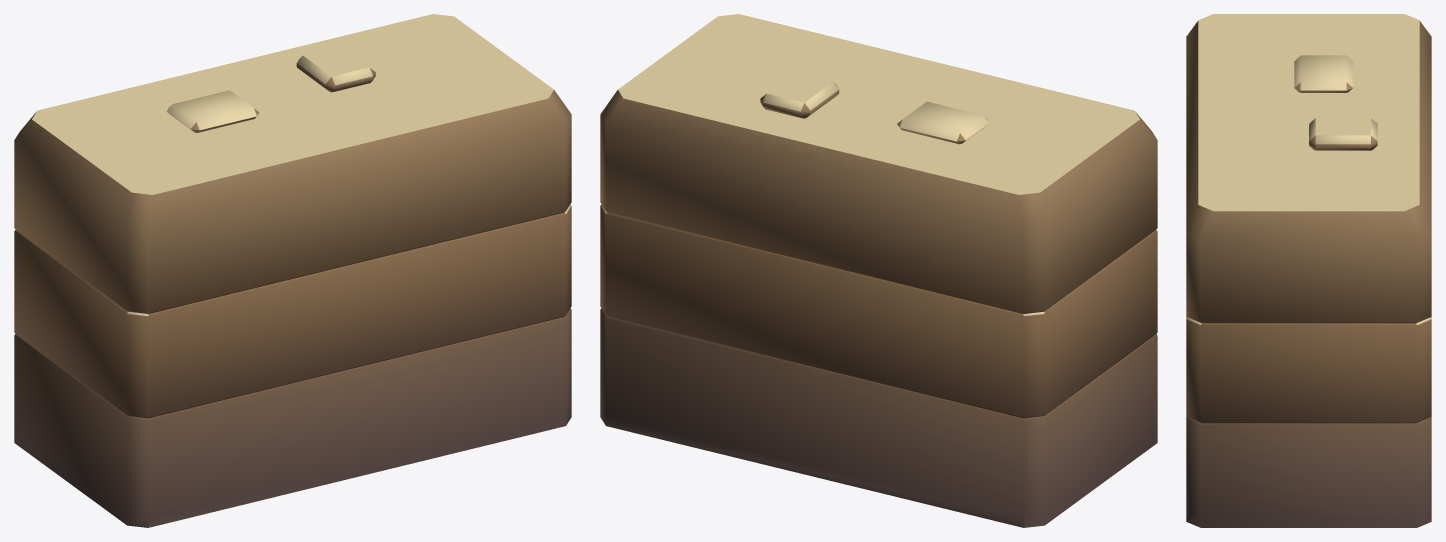
The model's file is canyon_boundary.glb.
3 renders of one model, left to right at view 1: azimuth 30°, elevation 25°; view 2: azimuth 150°, elevation 25°; view 3: azimuth 270°, elevation 25°, orthographic. The views are drawn at different scales.
Parts seen in each view (by area): view 1: canyon_boundary; view 2: canyon_boundary; view 3: canyon_boundary.
Part boxes in pixels (x1,y1,x2,y2): canyon_boundary: (14, 14, 571, 527); canyon_boundary: (600, 14, 1157, 527); canyon_boundary: (1186, 14, 1431, 527).
Bounding box in the file's own units: 4 × 2.93 × 2.
1 material, 1 textured.
